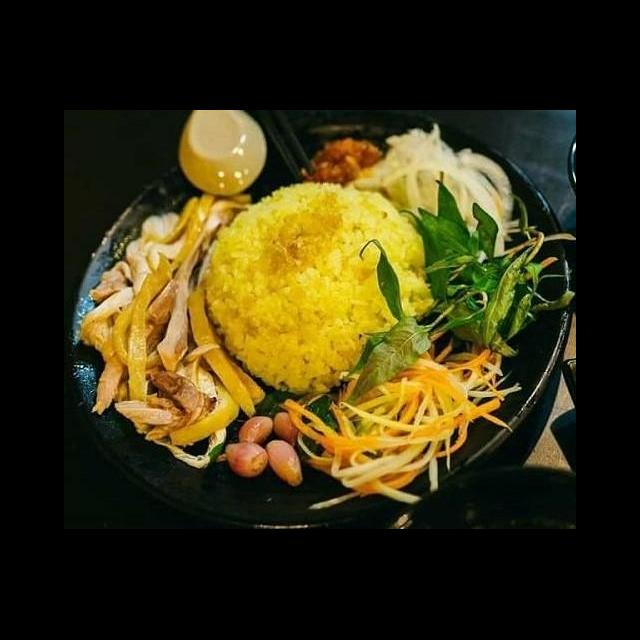com: (197, 178, 437, 398)
com ga: (72, 151, 576, 530)
rau ram: (395, 178, 576, 362), (336, 237, 453, 408)
thit ga: (76, 187, 267, 470)
